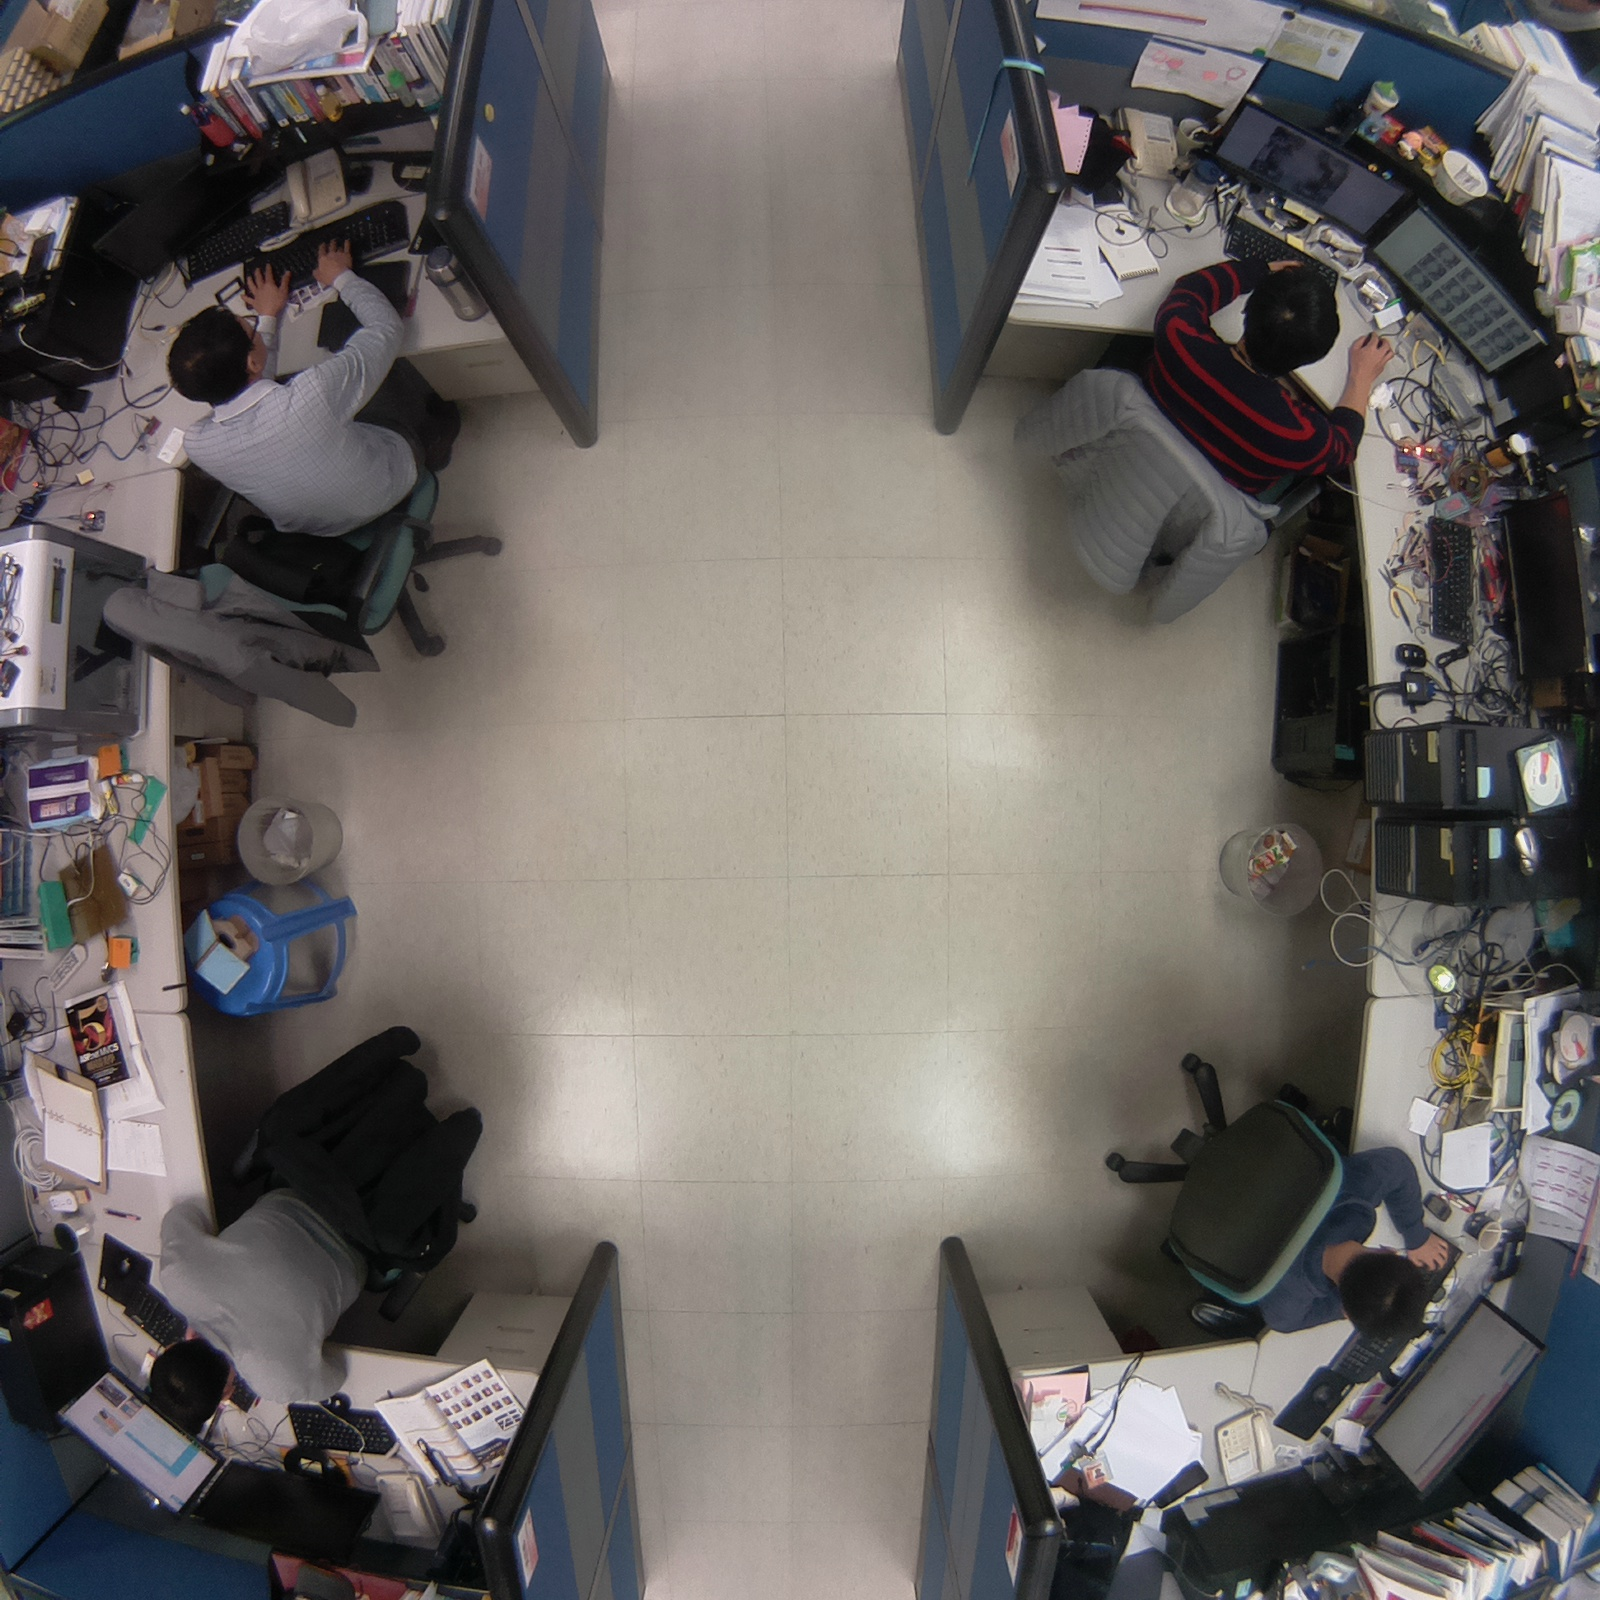head: (1238, 261, 1349, 376), (161, 302, 272, 404), (1327, 1238, 1434, 1342), (142, 1334, 242, 1429)
sitting: (78, 219, 519, 742), (137, 993, 501, 1445), (994, 250, 1409, 637), (1091, 1042, 1455, 1350)
